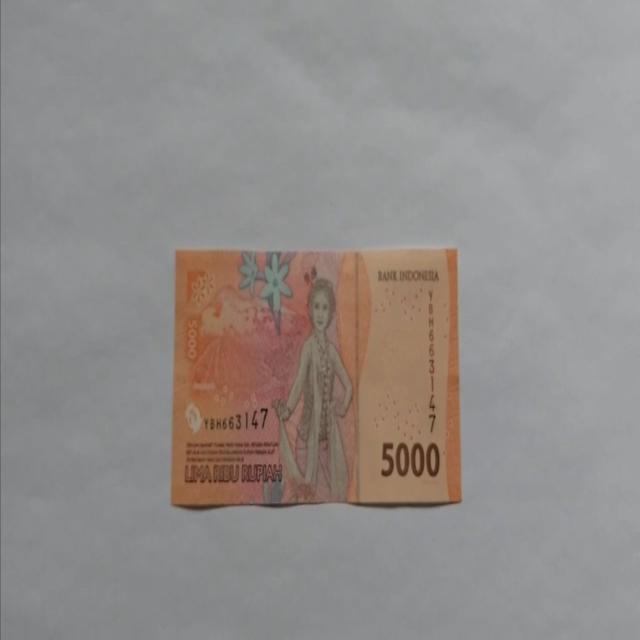lima ribu rupiah: (170, 245, 462, 510), (270, 276, 354, 504)
